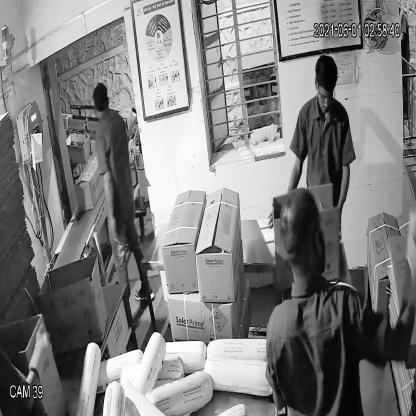no_goggles: (314, 79, 338, 108)
